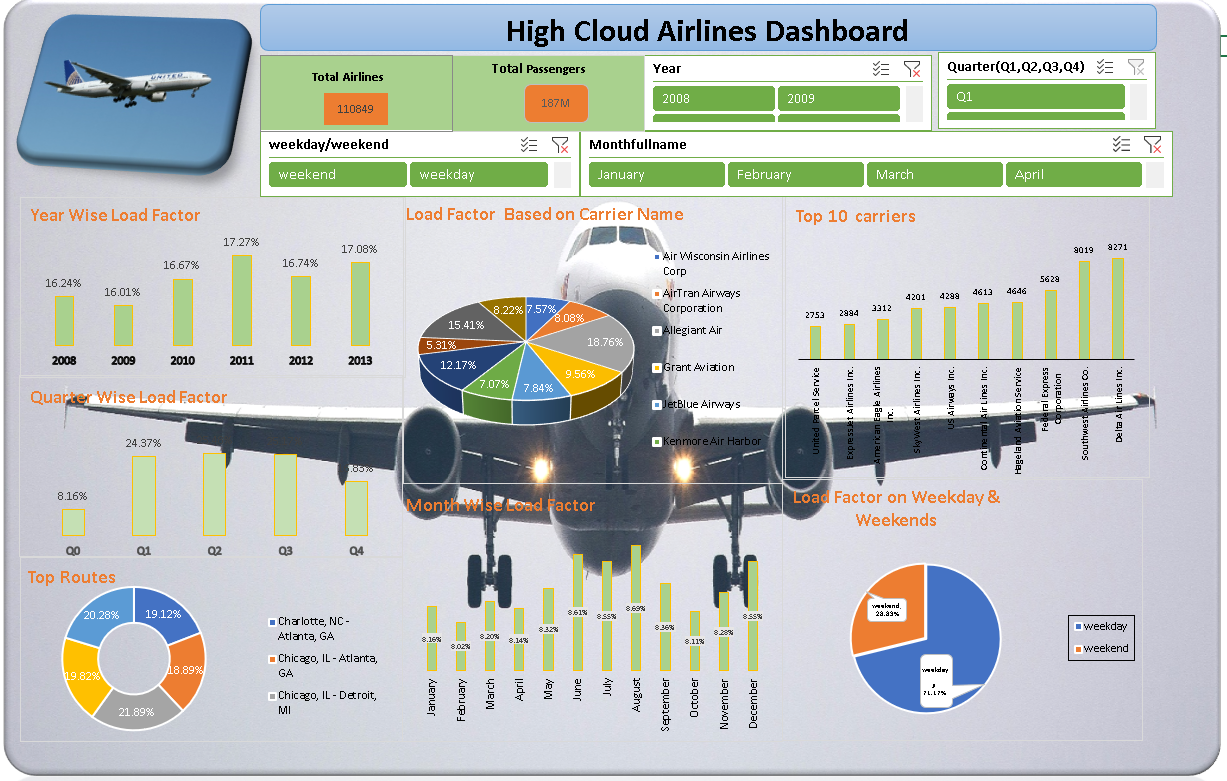

The page's visual inventory and layout, read from the dashboard file:
{"tool":"tableau","page":{"name":"Dashboard 1","canvas":[1000,1000],"units":"permille","ordinal":0},"visuals":[{"type":"title","box":[4.8,10,990.3,67.4]},{"type":"image","param":"Image/download 1.jpeg","box":[7.9,13.7,114.1,48.7]},{"type":"image","param":"Image/download.jpeg","box":[275.2,15,56.7,37.5]},{"type":"image","param":"Image/airplane-logo-template-airplane-logo-elements-airplane-logo-icon-vector.jp","box":[315.6,15,31.4,40]},{"type":"image","param":"Image/download.jpeg","box":[325.3,15,67.6,38.7]},{"type":"image","param":"Image/airplane-logo-template-airplane-logo-elements-airplane-logo-icon-vector.jp","box":[663.2,15,31.4,40]},{"type":"image","param":"Image/airplane-logo-template-airplane-logo-elements-airplane-logo-icon-vector.jp","box":[349.4,16.2,31.4,40]},{"type":"image","param":"Image/airplane-logo-template-airplane-logo-elements-airplane-logo-icon-vector.jp","box":[628.9,17.5,31.4,40]},{"type":"dashboard-object","box":[875.7,20,112.2,43.7]},{"type":"worksheet","title":"Total airlines","mark":"Automatic","box":[7.9,79.9,120.7,107.4]},{"type":"worksheet","title":"Total cities","mark":"Automatic","box":[129.8,79.9,120.7,107.4]},{"type":"worksheet","title":"Total countries","mark":"Automatic","box":[252.3,79.9,120.7,107.4]},{"type":"worksheet","title":"Total Distance","mark":"Automatic","box":[374.8,79.9,120.7,107.4]},{"type":"worksheet","title":"Total Passengers","mark":"Automatic","box":[497.3,79.9,144.8,107.4]},{"type":"filter","title":"KPI22","param":"[federated.08m16590t00yph1cbb9fu1maycqq].[yr:Date:ok]","box":[647.6,82.4,102.6,101.1]},{"type":"filter","title":"Total countries","param":"[federated.08m16590t00yph1cbb9fu1maycqq].[none:Origin Country:nk]","box":[754.4,82.4,116.5,99.9]},{"type":"filter","title":"KPI4","param":"[federated.08m16590t00yph1cbb9fu1maycqq].[none:Carrier Name:nk]","box":[876.9,82.4,114.7,101.1]},{"type":"worksheet","title":"KPI22","mark":"Bar","rows":["Date"],"box":[8.4,196,233,337.1]},{"type":"worksheet","title":"KPI21","mark":"Bar","rows":["LoadFactor%"],"cols":["Date"],"box":[242.6,196,229.3,338.3]},{"type":"worksheet","title":"KPI23","mark":"Bar","rows":["LoadFactor%"],"cols":["Date"],"box":[473.8,196,303.6,337.1]},{"type":"worksheet","title":"KPI3","mark":"Pie","box":[779.1,196,212.4,335.8]},{"type":"worksheet","title":"KPI7.","mark":"Automatic","rows":["%Airline ID"],"cols":["%Distance Group ID"],"box":[9.1,539.3,287.3,443.2]},{"type":"worksheet","title":"KPI4","mark":"Circle","box":[299.3,540.6,293.3,440.7]},{"type":"worksheet","title":"KPI6","mark":"Pie","box":[852.8,540.6,139.4,438.2]},{"type":"worksheet","title":"KPI5","mark":"Automatic","rows":["From - To City"],"cols":["# Departures Performed"],"box":[596.3,541.8,252.9,438.2]}]}

Visuals, with their boxes on the dashboard's canvas, which has no fixed pixel size, in thousandths of its width and height (x1, y1, x2, y2). These are canvas units, not pixel positions in the 1227x781 screenshot, which may show the page scaled, cropped or inside an application window:
title: detection(5, 10, 995, 77)
image: detection(8, 14, 122, 62)
image: detection(275, 15, 332, 52)
image: detection(316, 15, 347, 55)
image: detection(325, 15, 393, 54)
image: detection(663, 15, 695, 55)
image: detection(349, 16, 381, 56)
image: detection(629, 18, 660, 58)
dashboard-object: detection(876, 20, 988, 64)
"Total airlines" worksheet: detection(8, 80, 129, 187)
"Total cities" worksheet: detection(130, 80, 250, 187)
"Total countries" worksheet: detection(252, 80, 373, 187)
"Total Distance" worksheet: detection(375, 80, 496, 187)
"Total Passengers" worksheet: detection(497, 80, 642, 187)
"KPI22" filter: detection(648, 82, 750, 184)
"Total countries" filter: detection(754, 82, 871, 182)
"KPI4" filter: detection(877, 82, 992, 184)
"KPI22" worksheet (Bar marks): detection(8, 196, 241, 533)
"KPI21" worksheet (Bar marks): detection(243, 196, 472, 534)
"KPI23" worksheet (Bar marks): detection(474, 196, 777, 533)
"KPI3" worksheet (Pie marks): detection(779, 196, 992, 532)
"KPI7." worksheet: detection(9, 539, 296, 982)
"KPI4" worksheet (Circle marks): detection(299, 541, 593, 981)
"KPI6" worksheet (Pie marks): detection(853, 541, 992, 979)
"KPI5" worksheet: detection(596, 542, 849, 980)
